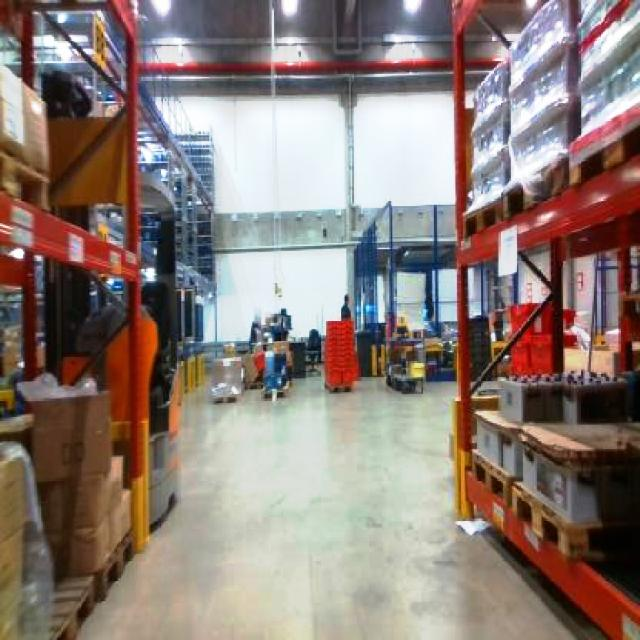ground: (49, 357, 617, 638)
pallet: (451, 0, 638, 638), (462, 371, 638, 638), (0, 385, 137, 638), (323, 317, 357, 392)
